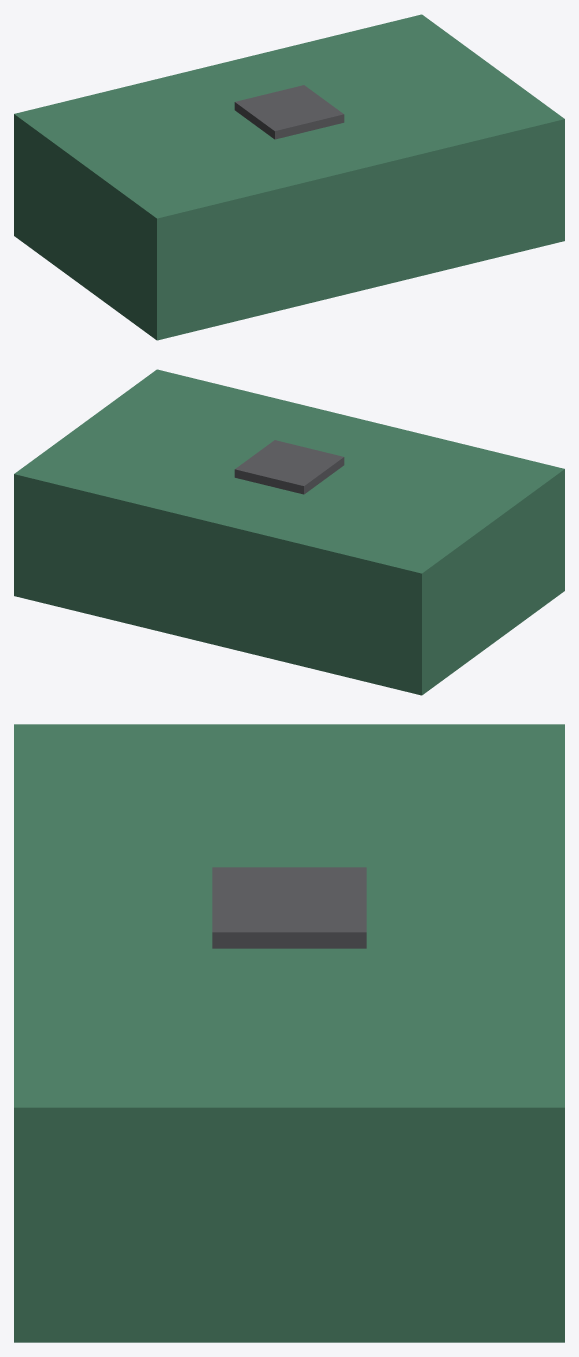
3 views of the same model, one above another, from view 1: azimuth 30°, elevation 25°; view 2: azimuth 150°, elevation 25°; view 3: azimuth 270°, elevation 25° (orthographic). The views are drawn at different scales.
Parts seen in each view (by area): view 1: w5500-pcb, w5500-ic; view 2: w5500-pcb, w5500-ic; view 3: w5500-pcb, w5500-ic.
Boxes of the visible parts, x1=… form: w5500-pcb: x1=14, y1=14, x2=564, y2=340; w5500-ic: x1=234, y1=85, x2=344, y2=139; w5500-pcb: x1=14, y1=369, x2=564, y2=695; w5500-ic: x1=234, y1=440, x2=344, y2=494; w5500-pcb: x1=14, y1=724, x2=564, y2=1342; w5500-ic: x1=212, y1=867, x2=366, y2=948.
Size of the model in its own units: 0.056 by 0.0171 by 0.034.
